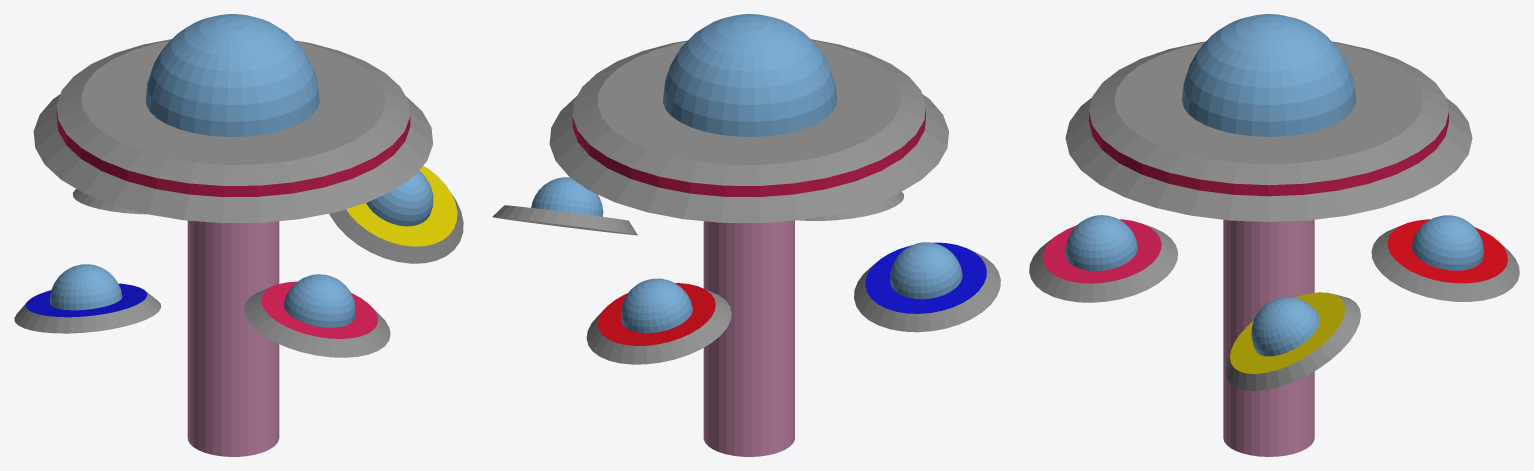
File: MOTHERSHIP.fbx
The picture shows the model from 3 angles, left to right: view 1: azimuth 30°, elevation 25°; view 2: azimuth 150°, elevation 25°; view 3: azimuth 270°, elevation 25°; orthographic projection.
Parts seen in each view (by area): view 1: Cylinder; view 2: Cylinder; view 3: Cylinder.
Boxes of the visible parts, x1=… form: Cylinder: x1=14, y1=14, x2=463, y2=456; Cylinder: x1=492, y1=14, x2=1000, y2=456; Cylinder: x1=1029, y1=14, x2=1519, y2=456.
Size of the model in its own units: 1160 by 1000 by 1071.
